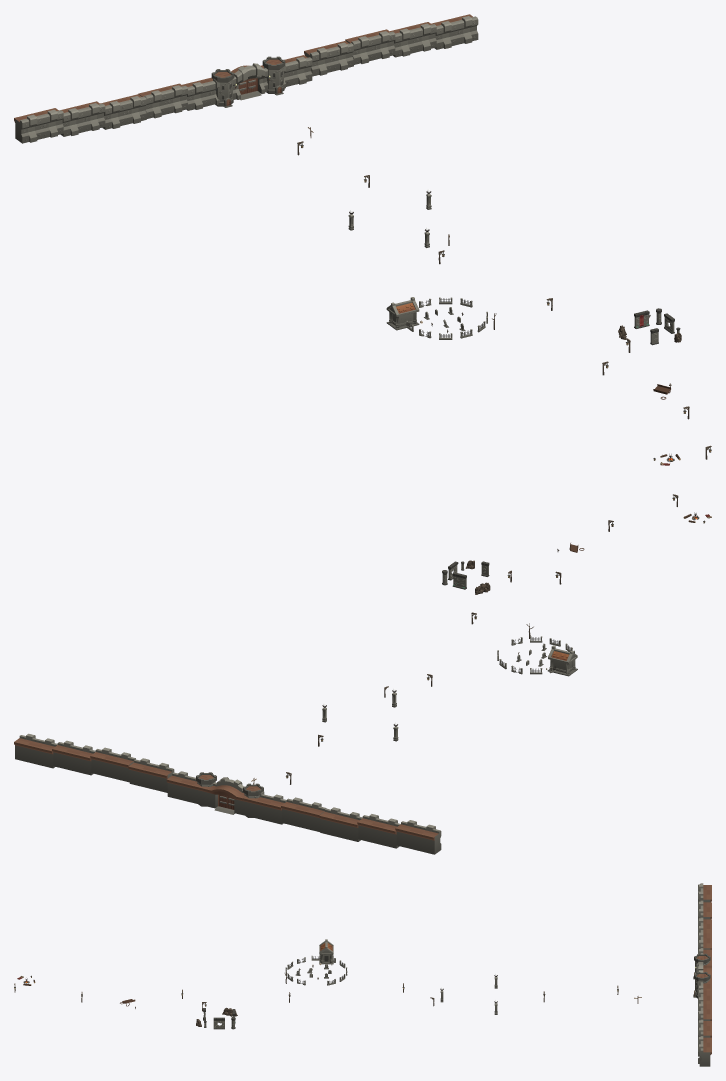
Rendered from landmarks.glb.
3 renders of one model, top to bottom at view 1: azimuth 30°, elevation 25°; view 2: azimuth 150°, elevation 25°; view 3: azimuth 270°, elevation 25°, orthographic. The views are drawn at different scales.
Parts seen in each view (by area): view 1: kk-hex_buildings-wall_straight-46, kk-hex_buildings-wall_straight-49, kk-hex_buildings-wall_straight-50, kk-hex_buildings-wall_straight-43, kk-hex_buildings-wall_straight-45, kk-hex_buildings-wall_straight-52, kk-hex_buildings-wall_straight-44, kk-hex_buildings-wall_straight-51, kk-hex_buildings-wall_straight_gate-41, kk-hex_buildings-wall_straight-42, kk-hex_buildings-wall_straight-48, kk-halloween-crypt-33; view 2: kk-hex_buildings-wall_straight-46, kk-hex_buildings-wall_straight_gate-41, kk-hex_buildings-wall_straight-49, kk-hex_buildings-wall_straight-50, kk-hex_buildings-wall_straight-43, kk-hex_buildings-wall_straight-51, kk-hex_buildings-wall_straight-45, kk-hex_buildings-wall_straight-52, kk-hex_buildings-wall_straight-44, kk-hex_buildings-wall_straight-42, kk-hex_buildings-wall_straight-48, kk-halloween-crypt-33; view 3: kk-hex_buildings-wall_straight-52, kk-halloween-crypt-33.
Part boxes in pixels (x1,y1,x2,y2): kk-hex_buildings-wall_straight-46: (14,108,63,143); kk-hex_buildings-wall_straight-49: (304,41,353,76); kk-hex_buildings-wall_straight-50: (345,29,395,64); kk-hex_buildings-wall_straight-43: (138,83,187,118); kk-hex_buildings-wall_straight-45: (59,101,105,136); kk-hex_buildings-wall_straight-52: (431,14,478,49); kk-hex_buildings-wall_straight-44: (100,94,146,129); kk-hex_buildings-wall_straight-51: (390,22,436,57); kk-hex_buildings-wall_straight_gate-41: (231,63,268,100); kk-hex_buildings-wall_straight-42: (182,77,219,110); kk-hex_buildings-wall_straight-48: (283,55,312,88); kk-halloween-crypt-33: (386,297,419,330); kk-hex_buildings-wall_straight-46: (395,820,441,854); kk-hex_buildings-wall_straight_gate-41: (204,777,245,815); kk-hex_buildings-wall_straight-49: (128,758,174,792); kk-hex_buildings-wall_straight-50: (90,747,135,782); kk-hex_buildings-wall_straight-43: (281,797,326,831); kk-hex_buildings-wall_straight-51: (52,740,95,775); kk-hex_buildings-wall_straight-45: (357,814,400,848); kk-hex_buildings-wall_straight-52: (14,733,57,768); kk-hex_buildings-wall_straight-44: (319,807,362,841); kk-hex_buildings-wall_straight-42: (243,791,286,824); kk-hex_buildings-wall_straight-48: (166,771,207,805); kk-halloween-crypt-33: (547,645,577,676); kk-hex_buildings-wall_straight-52: (698,1036,711,1066); kk-halloween-crypt-33: (319,939,333,964).
Size of the model in its own units: 114 by 12.84 by 208.
42 materials, 4 textured.
